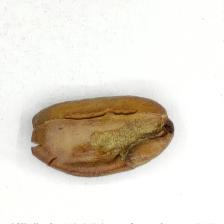NG: (34, 108, 170, 162)
